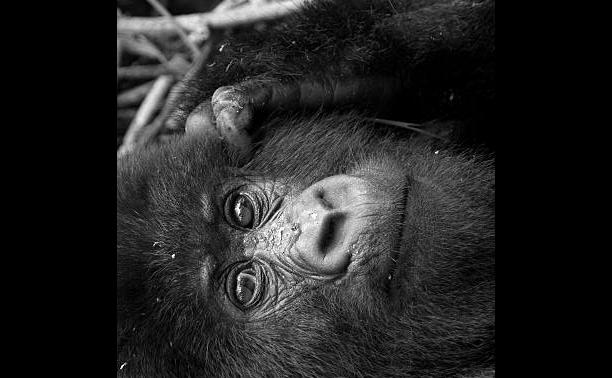goriile_montagne: (120, 0, 490, 378)
